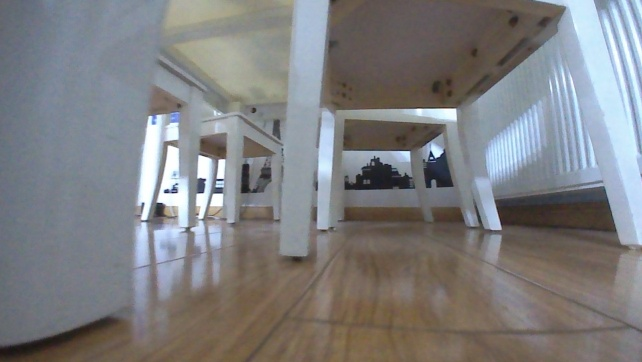dining_table1: (0, 0, 641, 350)
